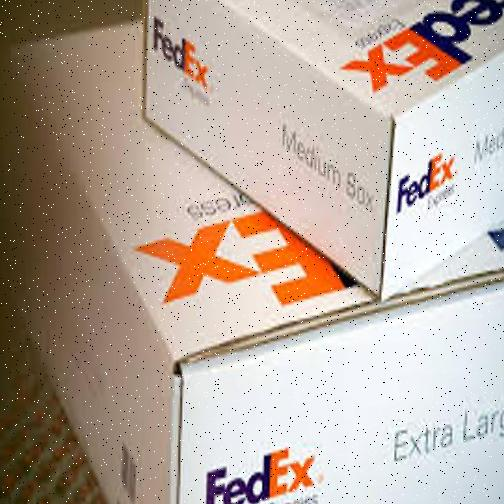FedEx: (7, 20, 504, 504), (144, 1, 504, 293)
